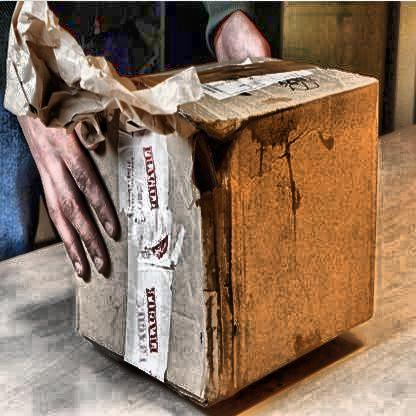defect parcel: (3, 0, 389, 314)
